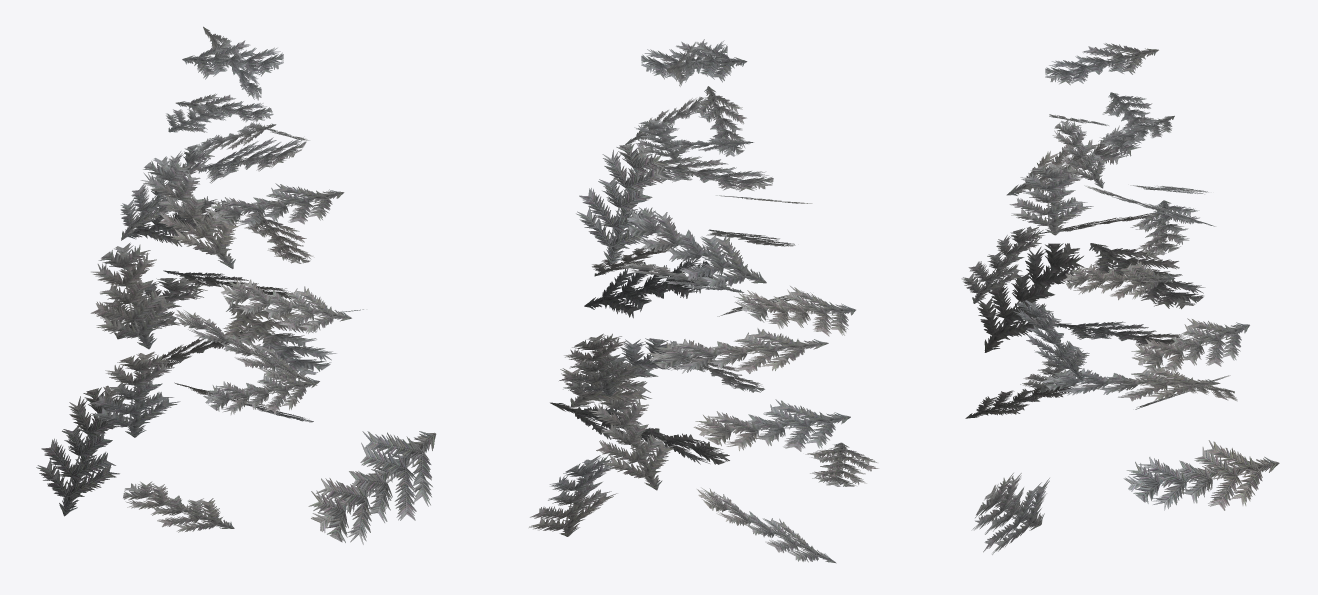
File: spruce_l2.gltf
3 views of the same model, side by side, from view 1: azimuth 30°, elevation 25°; view 2: azimuth 150°, elevation 25°; view 3: azimuth 270°, elevation 25° (orthographic). The views are drawn at different scales.
Visible parts, largest first — view 1: spruce_l2; view 2: spruce_l2; view 3: spruce_l2.
Part boxes in pixels (<box>): spruce_l2: <box>36,26,436,544</box>; spruce_l2: <box>529,39,878,563</box>; spruce_l2: <box>961,43,1279,554</box>.
Bounding box in the file's own units: 10.85 × 14.28 × 9.49.
Materials: 1 (1 with a texture image).
